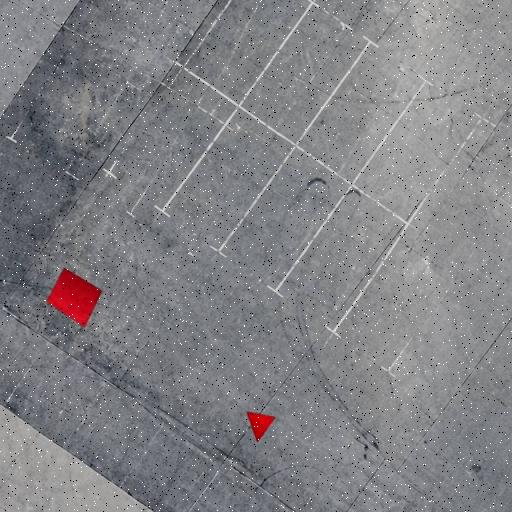RED_SQUARE: (46, 267, 103, 328)
